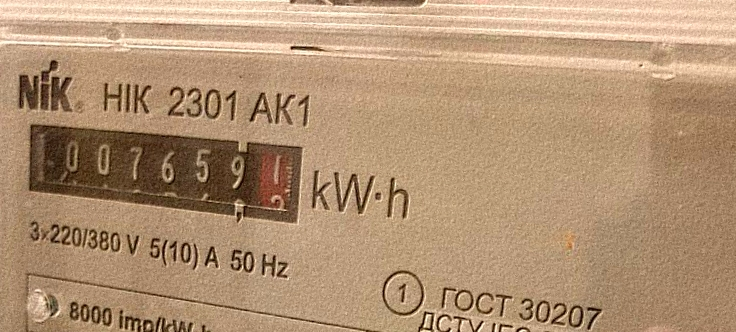0: (92, 138, 116, 180), (61, 136, 85, 176)
1: (265, 150, 288, 189)
5: (190, 145, 216, 187)
6: (155, 144, 182, 188)
7: (123, 142, 149, 183)
9: (225, 151, 251, 193)
screen: (13, 108, 313, 234)
